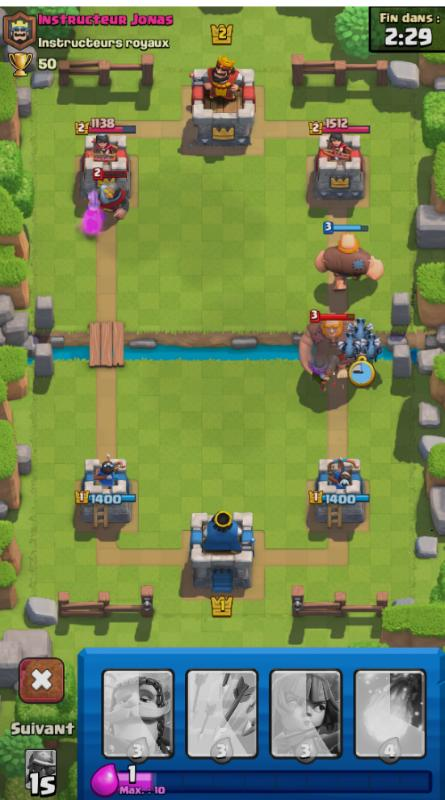chevalier: (86, 181, 135, 229)
gargouille: (358, 336, 385, 364), (336, 335, 362, 364), (347, 316, 376, 341)
geant: (314, 225, 386, 294), (297, 312, 359, 390)
